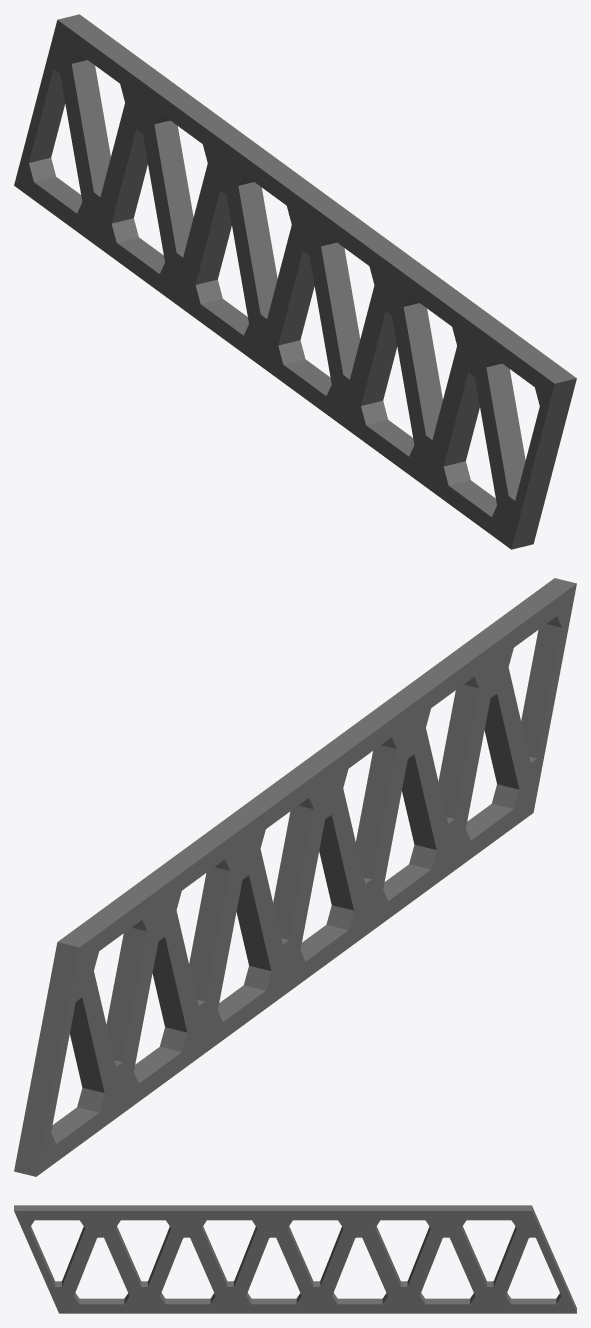
The model's file is Metal Support.glb.
3 views of the same model, one above another, from view 1: azimuth 30°, elevation 25°; view 2: azimuth 150°, elevation 25°; view 3: azimuth 270°, elevation 25° (orthographic). The views are drawn at different scales.
Parts seen in each view (by area): view 1: MetalSupport; view 2: MetalSupport; view 3: MetalSupport.
Boxes of the visible parts, x1,y1,x2,y2 form: MetalSupport: (14,14,576,549); MetalSupport: (14,578,576,1176); MetalSupport: (14,1205,576,1313).
Size of the model in its own units: 0.1415 by 1.2 by 5.95.
1 material, 1 textured.
